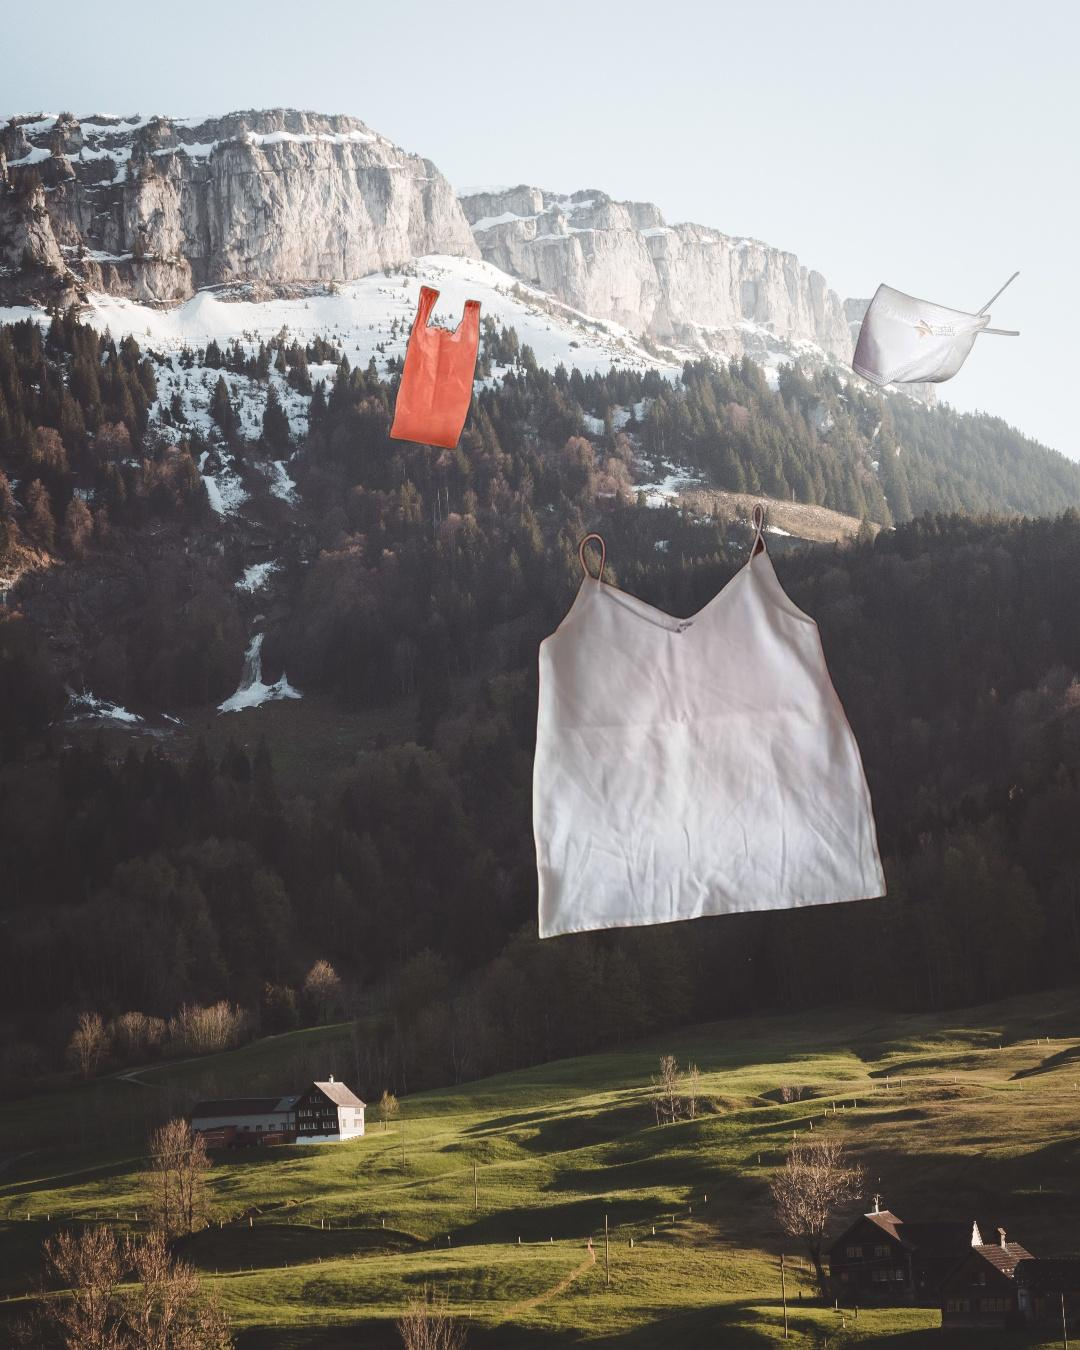clothes: (528, 499, 890, 946)
plastic-bag: (386, 195, 484, 451)
trash: (849, 268, 1022, 389)
